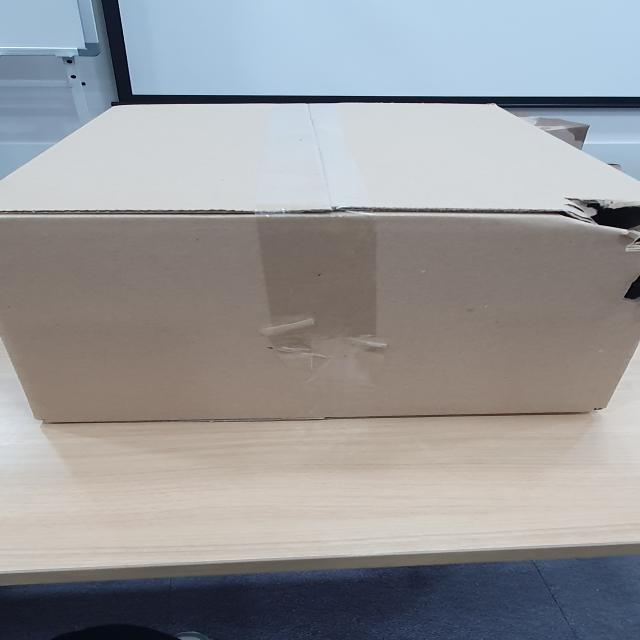hole: (573, 204, 640, 241), (616, 278, 640, 311)
